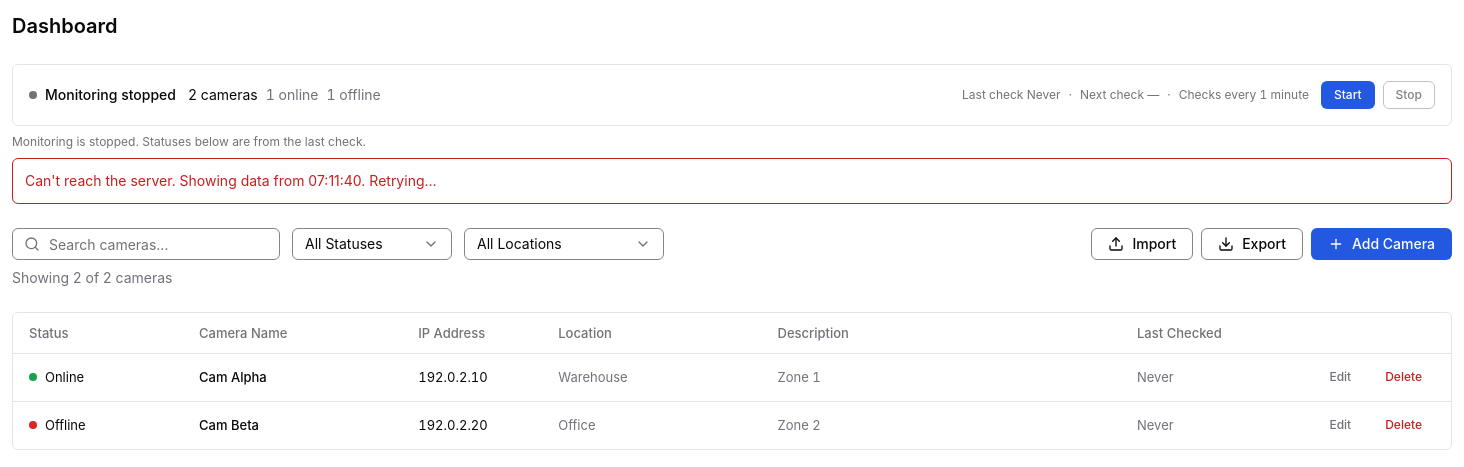
Test case: CameraToolbar filter select labels and clear filters › Clear filters button appears only when a filter is active, and clicking it restores the full list
The width and height of the screenshot is (1464, 467).
Expected: the text "Cam Alpha" is shown, [199,369,267,385]
Expected: the text "Cam Beta" is shown, [199,417,259,433]
// Type in search input to activate filter
Type "Alpha" into the field with test id "camera-search-input".
click(146, 244); type("Alpha")  # box [12,228,280,260]
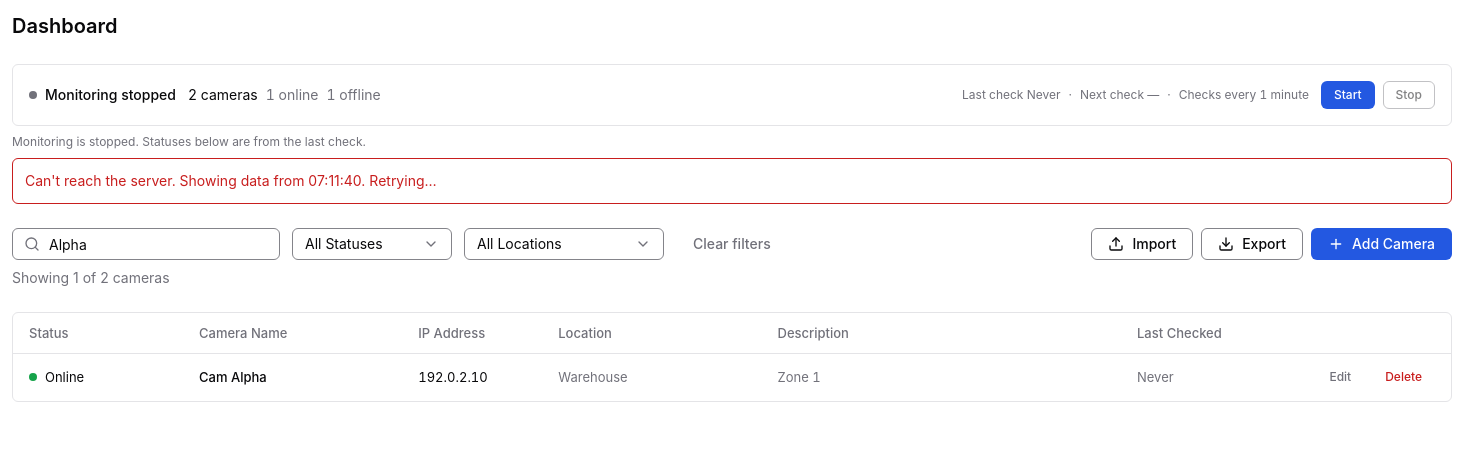
Expected: the text "Cam Alpha" is shown, [199,369,267,385]
Result: the button with test id "clear-filters-toolbar-button" is shown
Result: the text "Cam Beta" is gone
// Click Clear filters
Click the button with test id "clear-filters-toolbar-button".
click(732, 244)  # box [676,228,788,260]
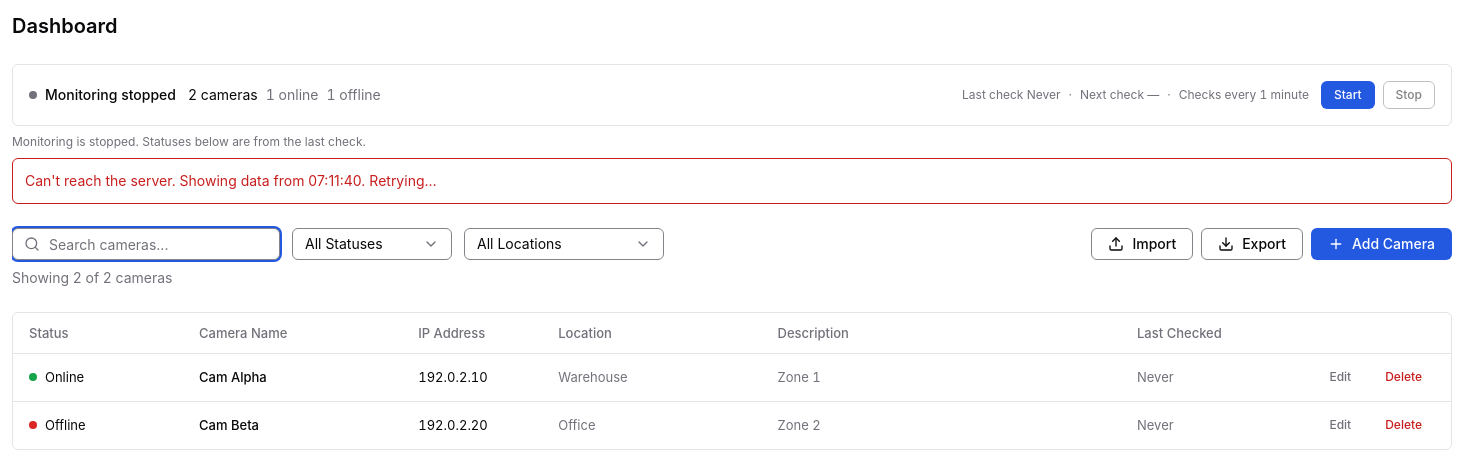
Result: the text "Cam Beta" is shown at [199,417,259,433]
Result: the button with test id "clear-filters-toolbar-button" is gone
Result: the field with test id "camera-search-input" is empty at [12,228,280,260]
